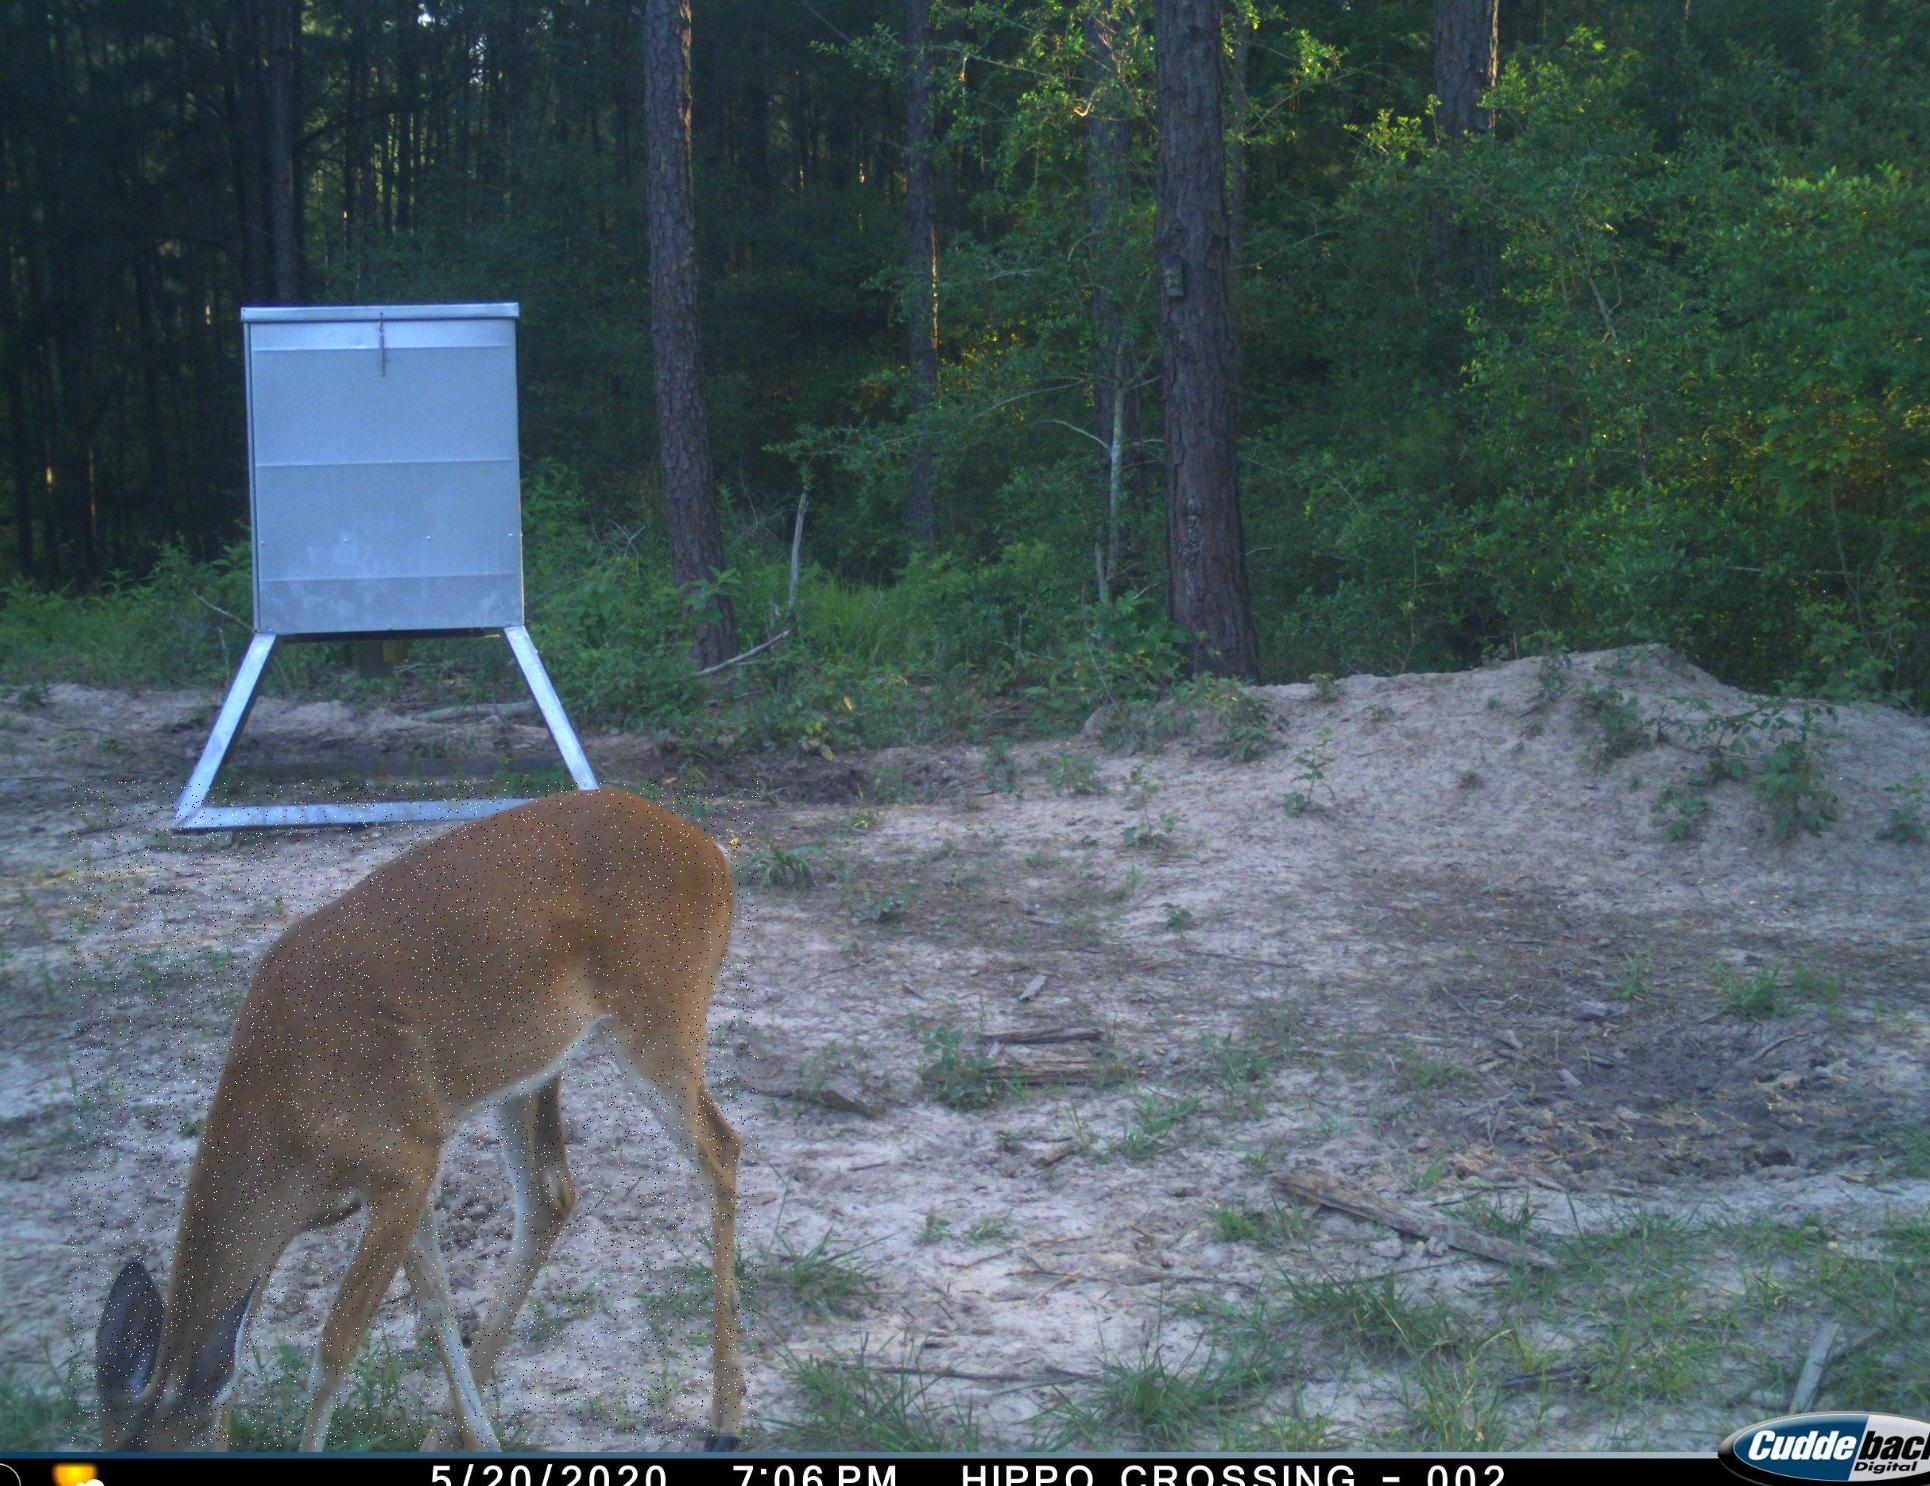Deer: (69, 780, 758, 1447)
